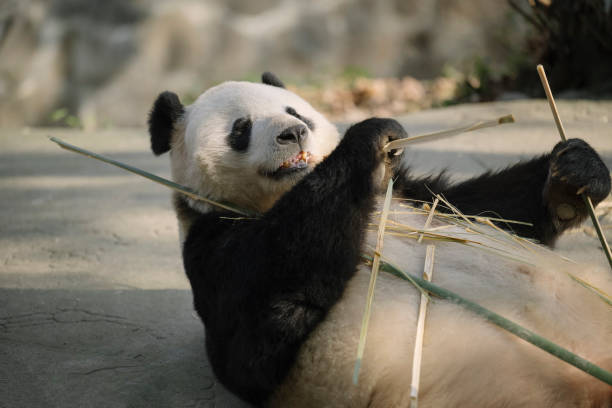panda: (131, 45, 374, 240)
